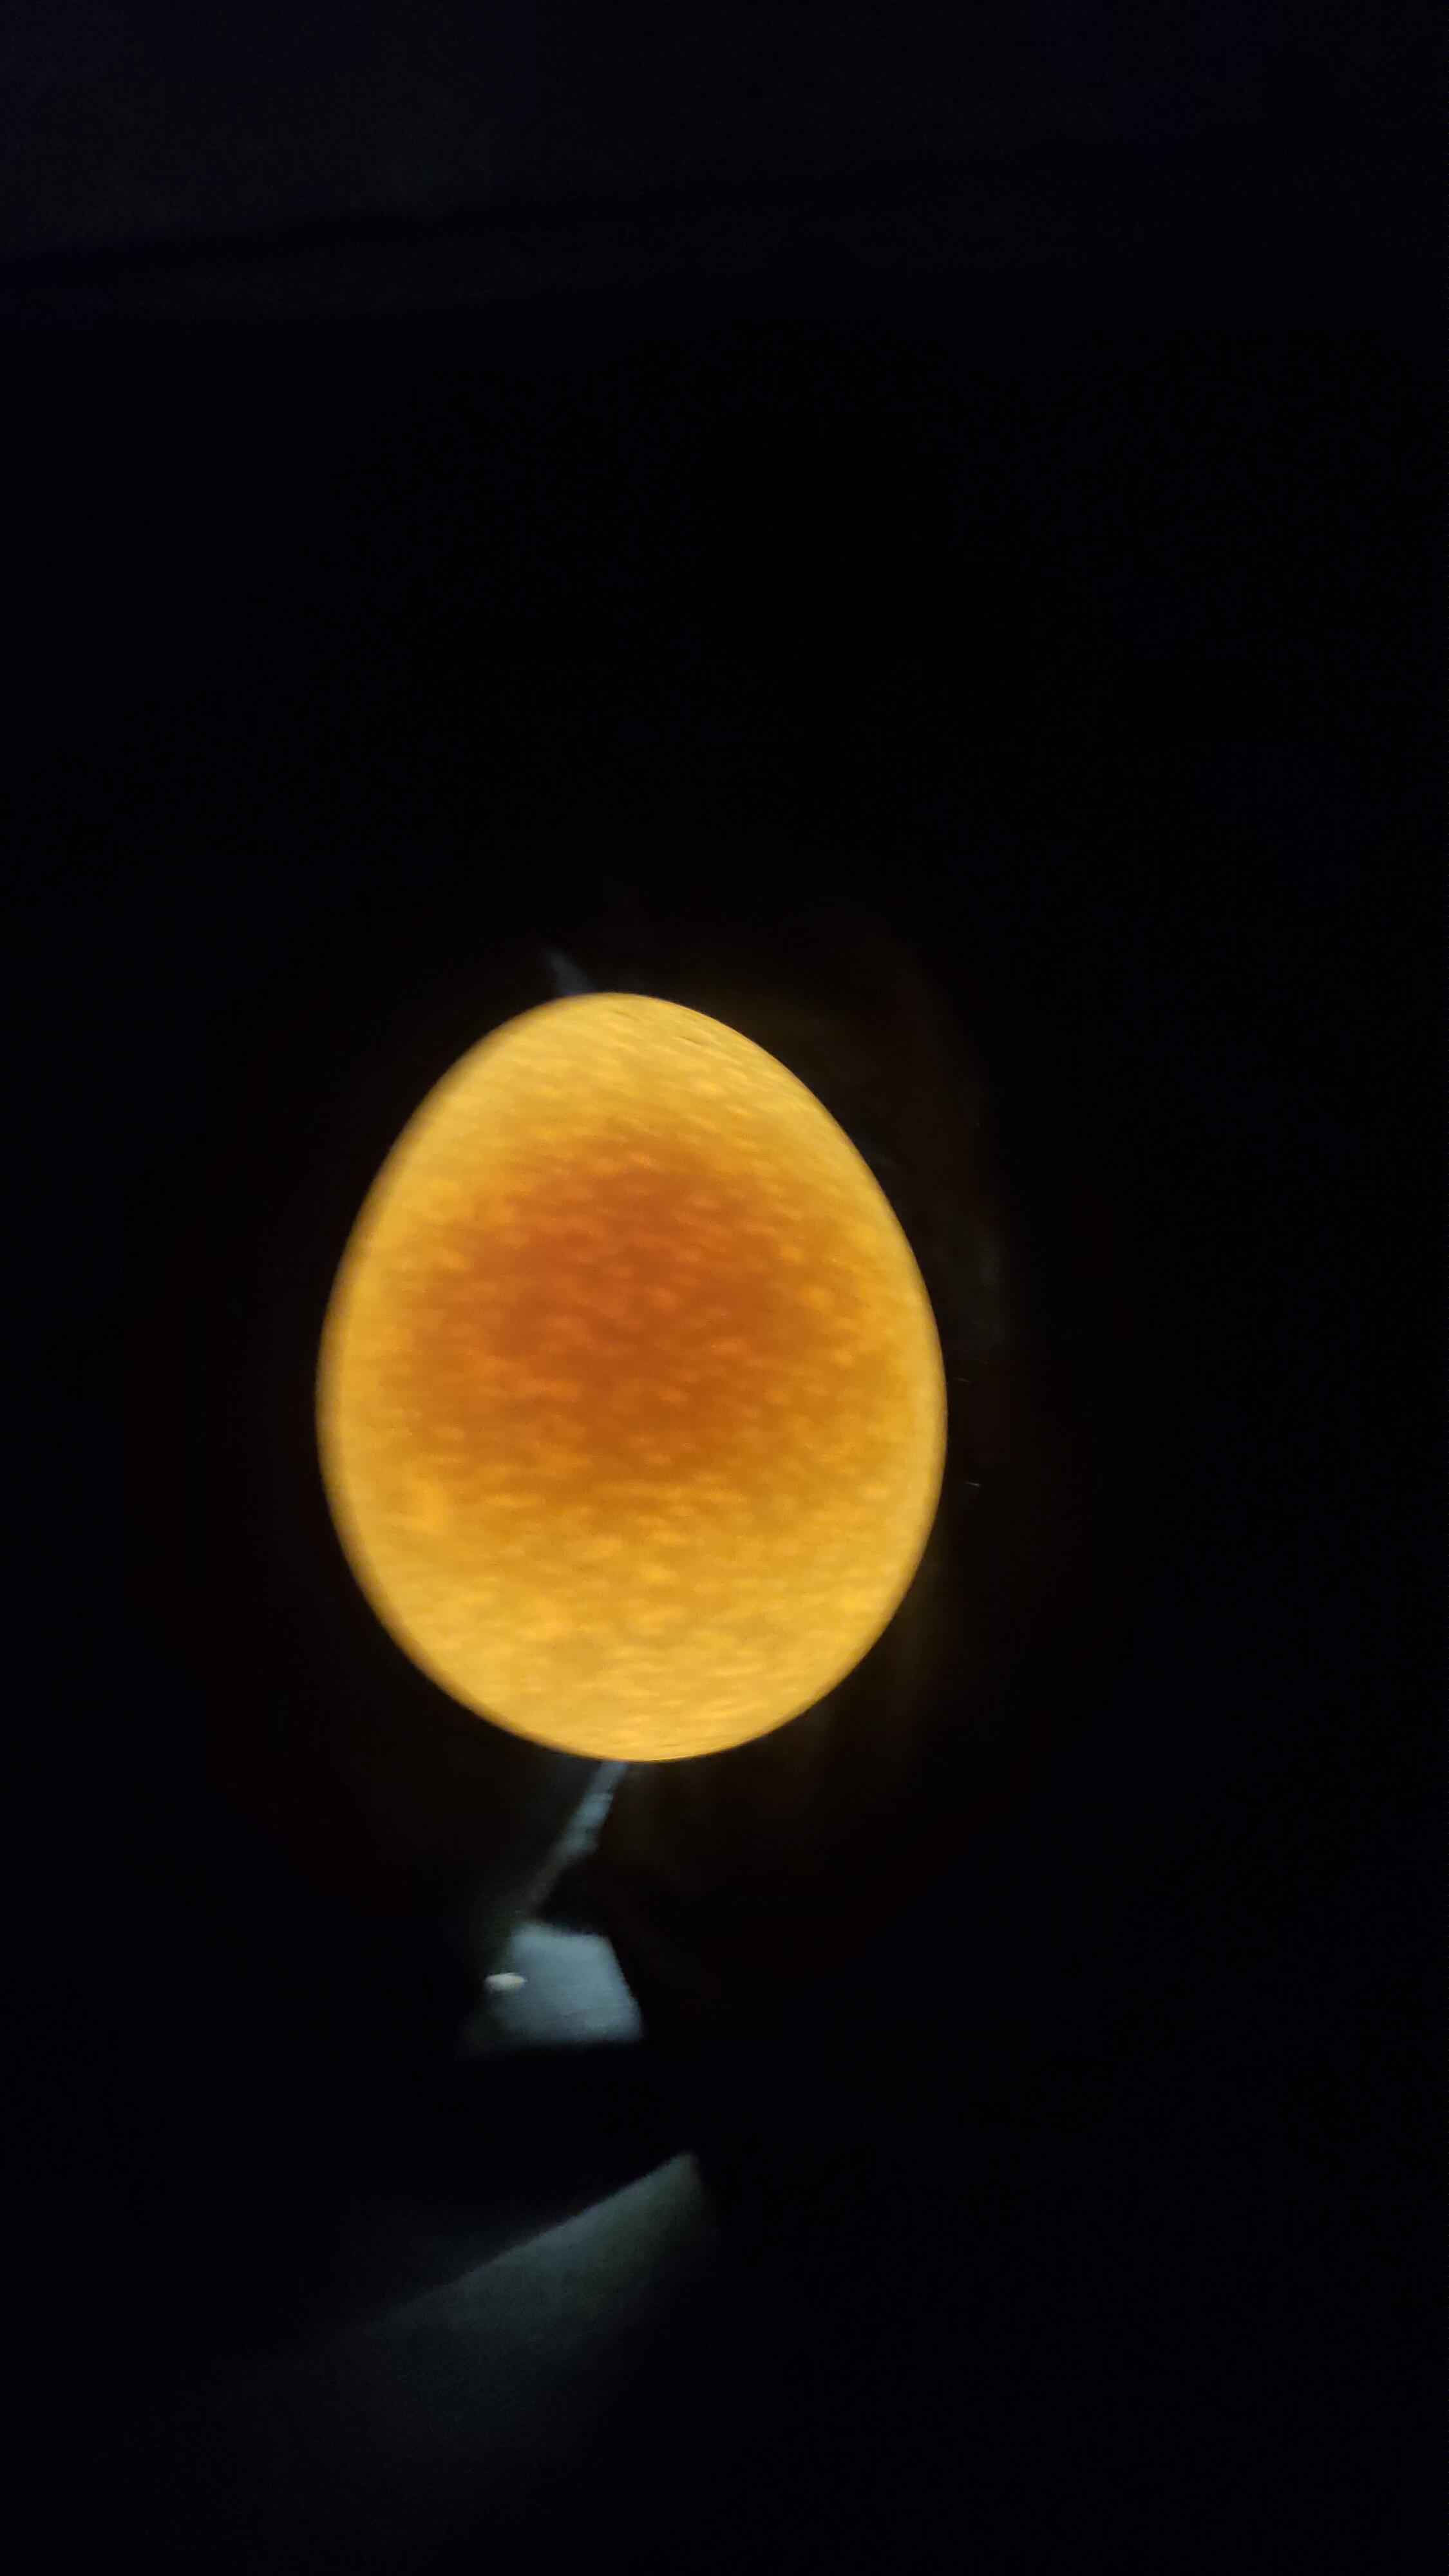A - Good: (264, 934, 1030, 1822)
